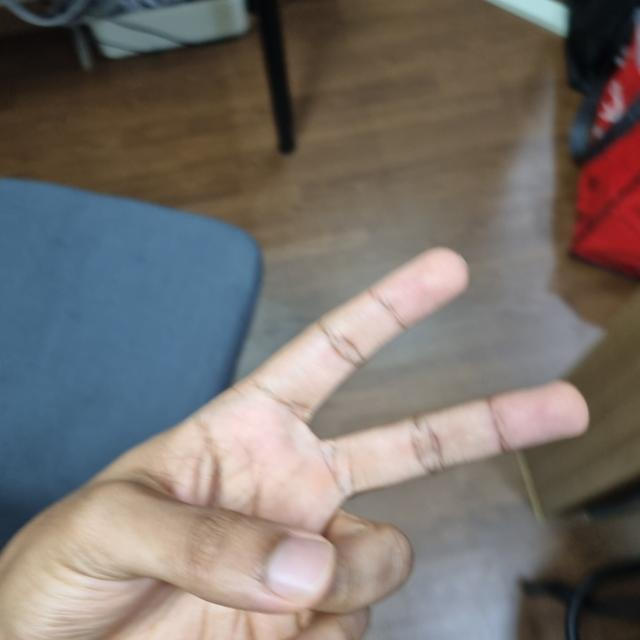Scissors: (0, 248, 588, 639)
